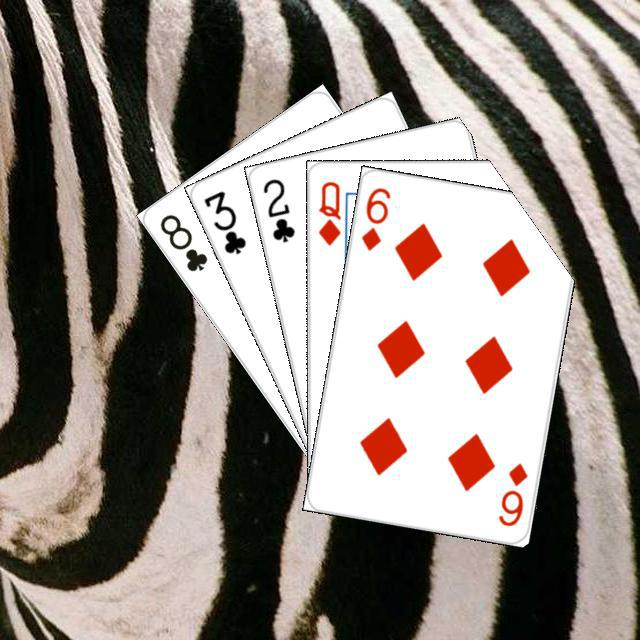2c: (258, 174, 297, 244)
3c: (198, 185, 248, 257)
6d: (356, 182, 393, 253), (493, 458, 529, 528)
8c: (154, 209, 210, 274)
Qd: (314, 177, 343, 247)
